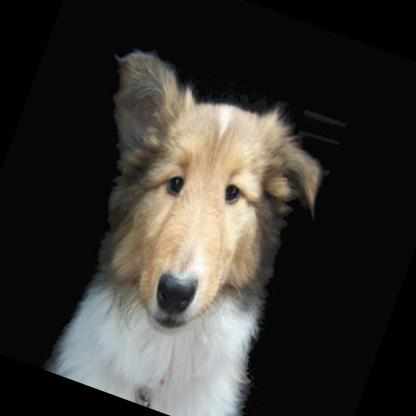collie: (15, 43, 341, 416)
